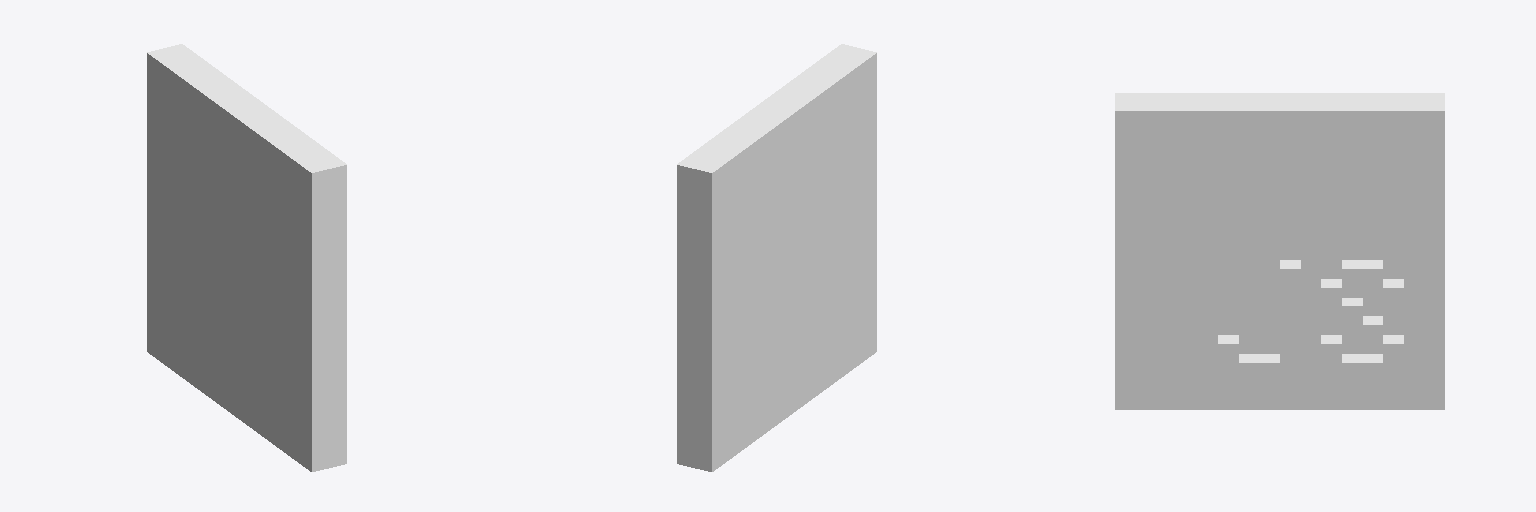
The model's file is Skill-log.vox-6.obj.
The picture shows the model from 3 angles: view 1: azimuth 30°, elevation 25°; view 2: azimuth 150°, elevation 25°; view 3: azimuth 270°, elevation 25°; orthographic projection.
Visible parts, largest first — view 1: object 1; view 2: object 1; view 3: object 1.
Part boxes in pixels (x1,y1,x2,y2): object 1: (147,44,346,471); object 1: (677,44,876,471); object 1: (1115,93,1444,409).
Size of the model in its own units: 0.3 by 1.6 by 1.6.